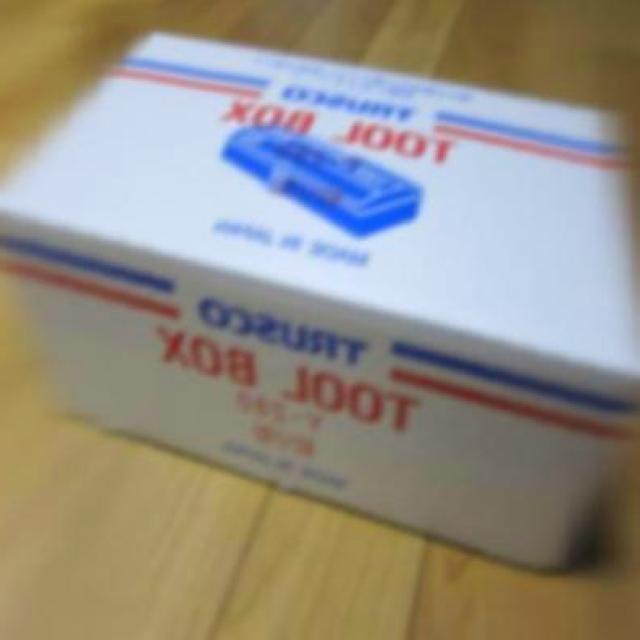box: (0, 26, 632, 580)
